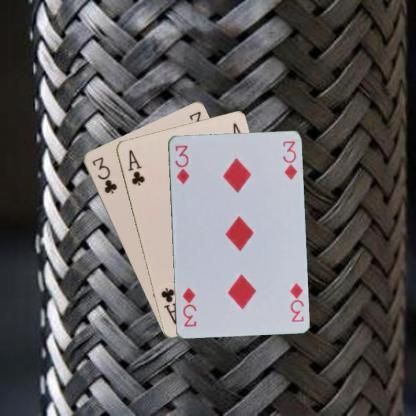3c: (89, 154, 118, 196)
3d: (172, 142, 191, 185), (287, 280, 305, 324)
Ac: (124, 146, 146, 188)
